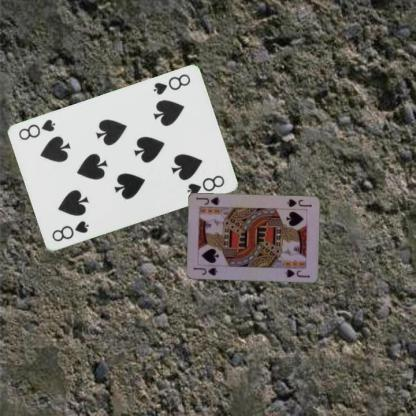8s: (49, 219, 90, 244), (150, 72, 192, 96)
Js: (284, 196, 313, 208), (191, 264, 218, 276)
